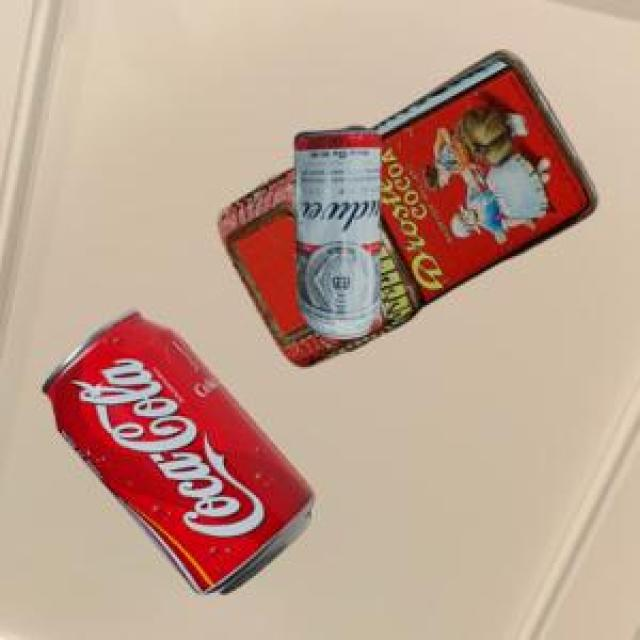logam: (217, 48, 594, 364), (39, 306, 310, 590), (291, 123, 377, 336)
